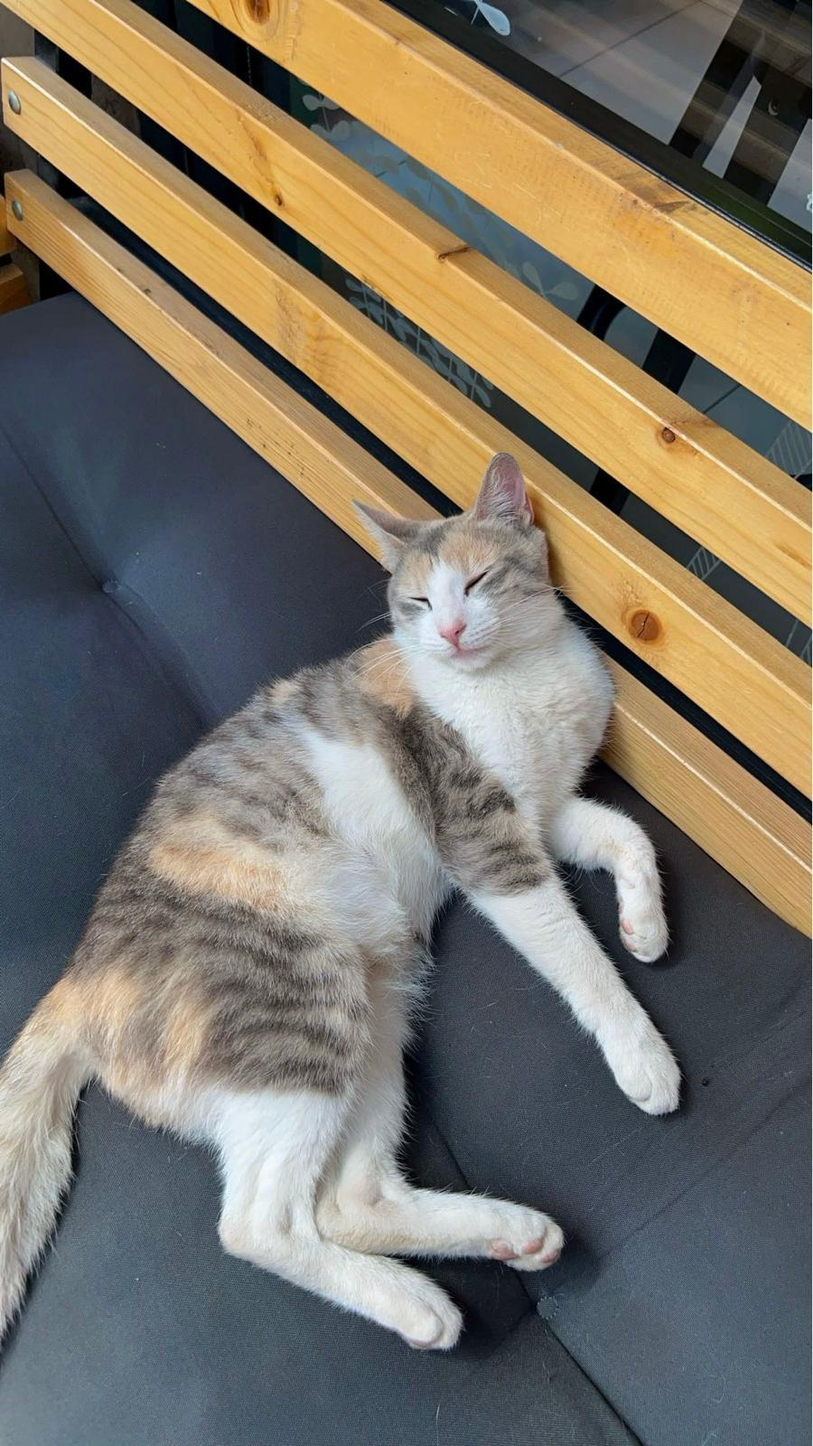macka: (0, 449, 687, 1359)
